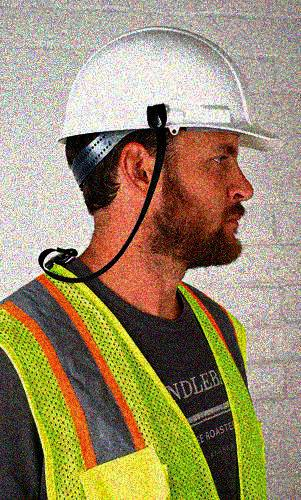helmet: (57, 23, 289, 268)
